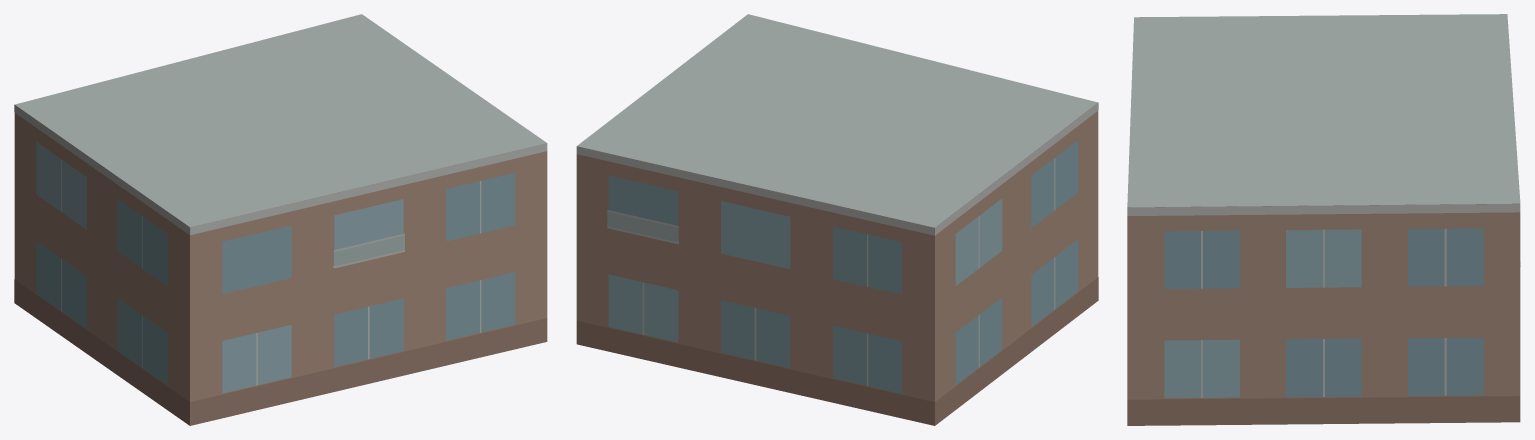
File: survey-upis-32940905.glb
3 renders of one model, left to right at view 1: azimuth 30°, elevation 25°; view 2: azimuth 150°, elevation 25°; view 3: azimuth 270°, elevation 25°, orthographic. The views are drawn at different scales.
Visible parts, largest first — view 1: survey-upis-32940905.tmp; view 2: survey-upis-32940905.tmp; view 3: survey-upis-32940905.tmp.
Boxes of the visible parts, bbox=[...] form: survey-upis-32940905.tmp: bbox=[14, 14, 547, 425]; survey-upis-32940905.tmp: bbox=[576, 14, 1098, 425]; survey-upis-32940905.tmp: bbox=[1127, 14, 1520, 425].
Bounding box in the file's own units: 11.59 × 6.1 × 9.97.
